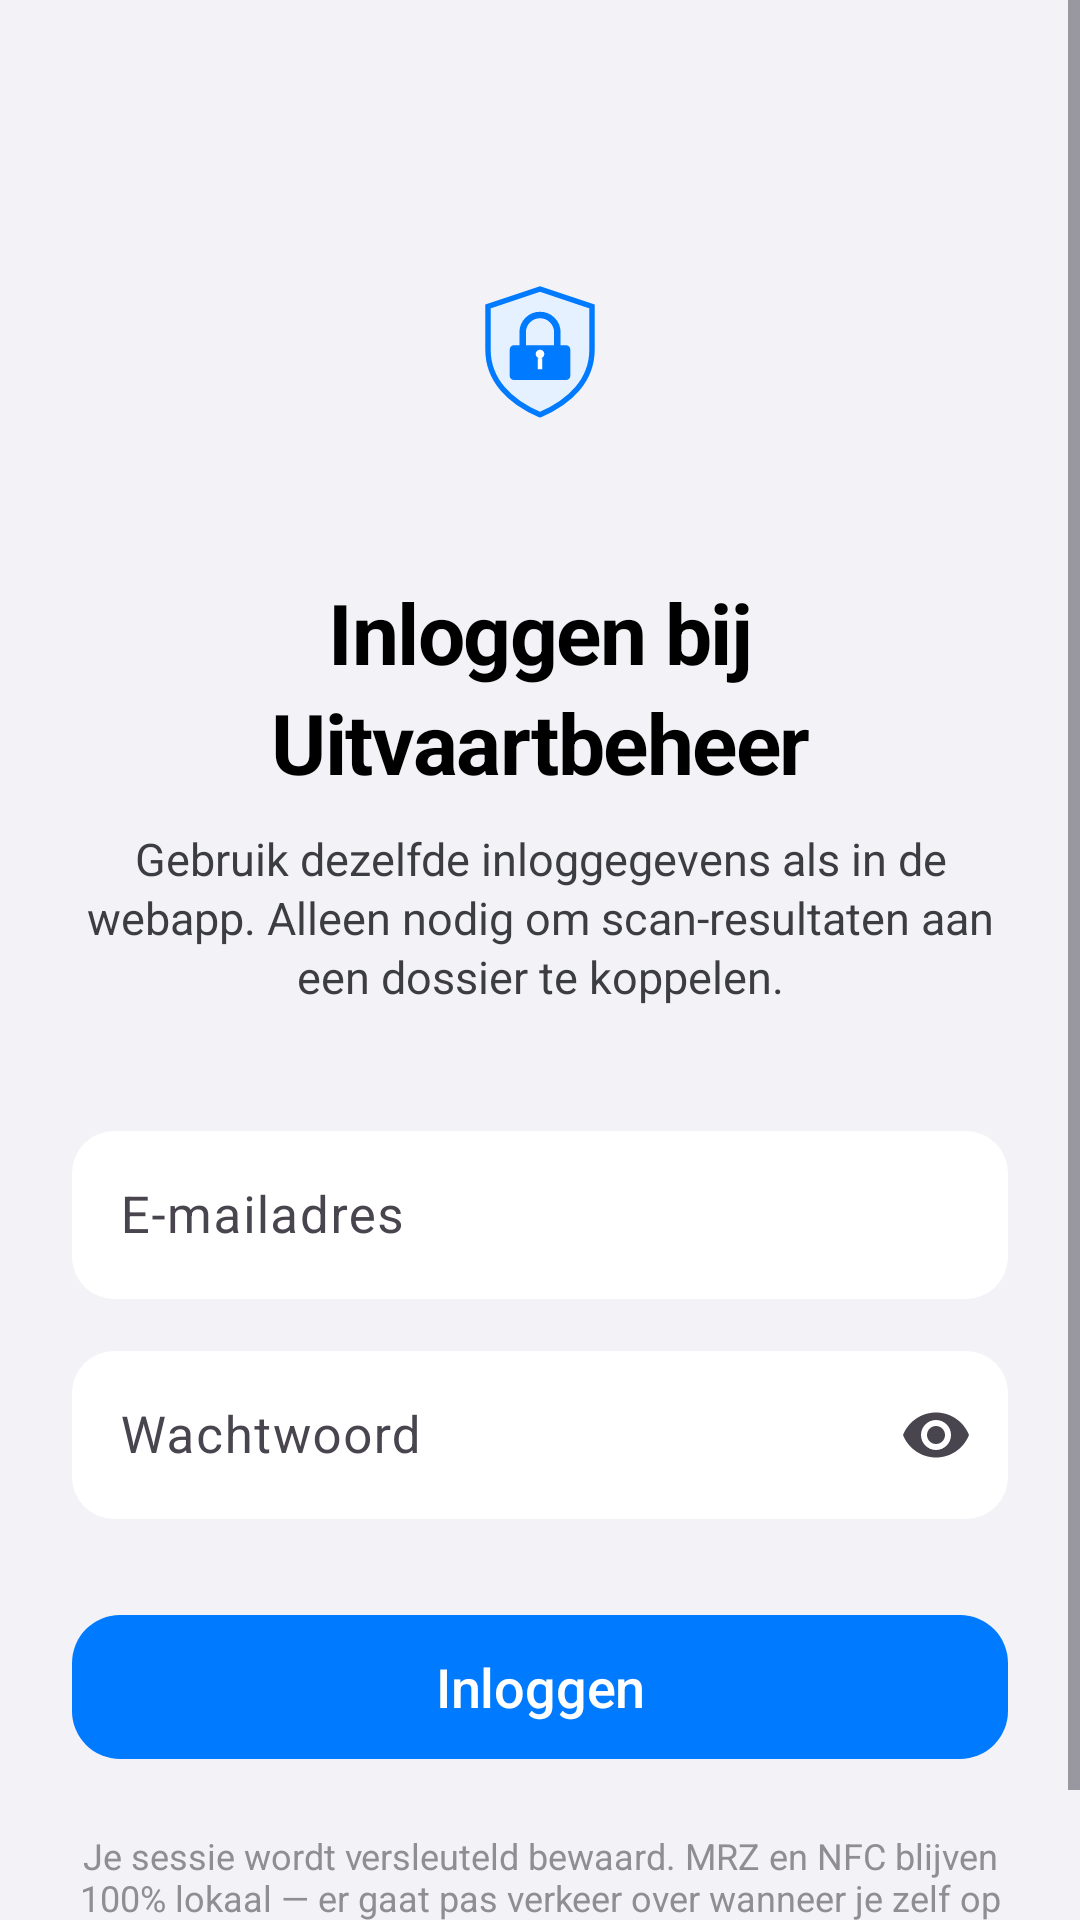

Screen size 1080 x 1920. Icon name, then its center in pixels as (x,y):
shield lock: (540,352)
